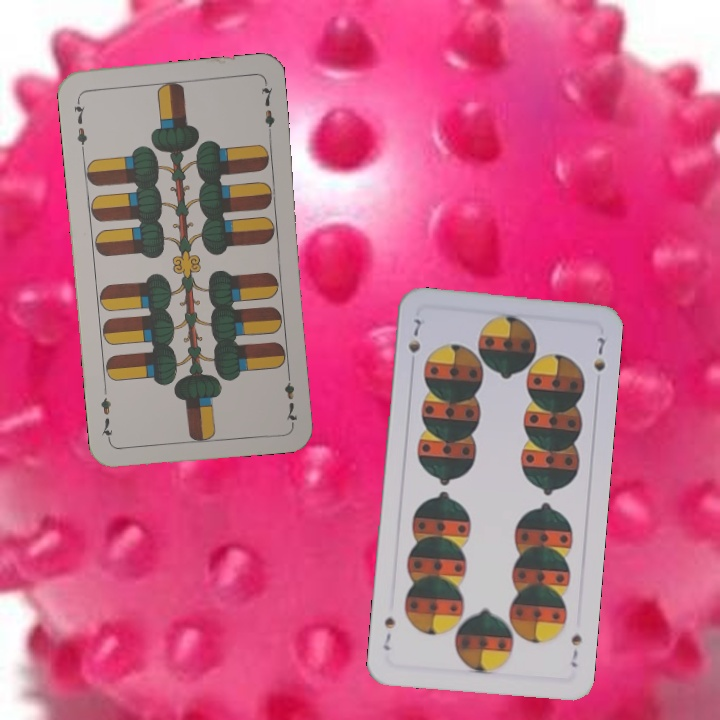E7: (69, 94, 90, 154), (280, 367, 300, 426)
S7: (404, 314, 427, 356), (567, 630, 584, 670)
